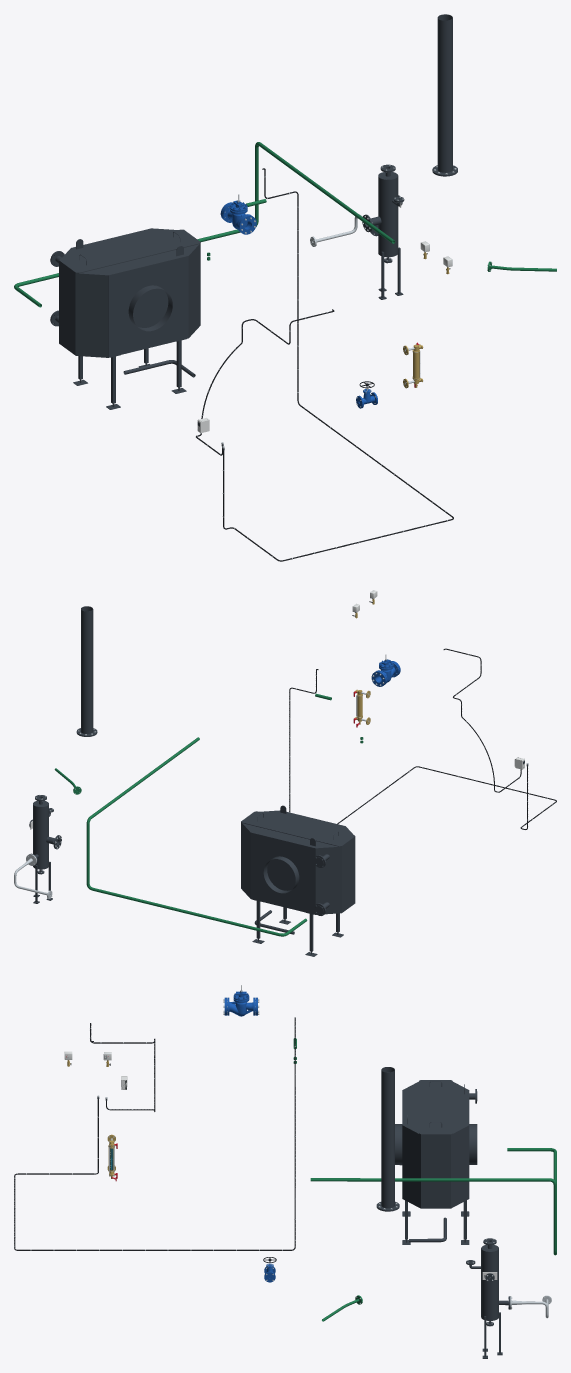
3 views of the same model, one above another, from view 1: azimuth 30°, elevation 25°; view 2: azimuth 150°, elevation 25°; view 3: azimuth 270°, elevation 25° (orthographic). The views are drawn at different scales.
Parts seen in each view (by area): view 1: economizer CAD solid 0, economizer CAD solid 3, economizer CAD solid 1, bdv_vent / dark, separator_fv8 / dark, to_economizer / green, mod_direct_drive_cable / black; view 2: economizer CAD solid 0, economizer CAD solid 3, economizer CAD solid 2, bdv_vent / dark, to_economizer / green, separator_fv8 / dark, mod_direct_drive_cable / black; view 3: economizer CAD solid 3, bdv_vent / dark, separator_fv8 / dark, to_economizer / green, mod_direct_drive_cable / black, economizer CAD solid 0, gpz CAD solid 0.
Part boxes in pixels (left/top/right/bottom): economizer CAD solid 0: left=73, top=256, right=188, bottom=409; economizer CAD solid 3: left=59, top=228, right=200, bottom=355; economizer CAD solid 1: left=76, top=273, right=108, bottom=357; bdv_vent / dark: left=432, top=14, right=457, bottom=176; separator_fv8 / dark: left=362, top=164, right=404, bottom=299; to_economizer / green: left=14, top=142, right=395, bottom=307; mod_direct_drive_cable / black: left=223, top=168, right=453, bottom=561; economizer CAD solid 0: left=250, top=832, right=343, bottom=956; economizer CAD solid 3: left=241, top=805, right=355, bottom=912; economizer CAD solid 2: left=314, top=846, right=341, bottom=915; bdv_vent / dark: left=76, top=606, right=97, bottom=736; to_economizer / green: left=86, top=737, right=307, bottom=936; separator_fv8 / dark: left=29, top=795, right=61, bottom=903; mod_direct_drive_cable / black: left=289, top=669, right=556, bottom=829; economizer CAD solid 3: left=402, top=1080, right=469, bottom=1208; bdv_vent / dark: left=376, top=1067, right=399, bottom=1211; separator_fv8 / dark: left=466, top=1238, right=510, bottom=1358; to_economizer / green: left=310, top=1148, right=556, bottom=1255; mod_direct_drive_cable / black: left=14, top=1017, right=295, bottom=1250; economizer CAD solid 0: left=395, top=1124, right=477, bottom=1244; gpz CAD solid 0: left=227, top=985, right=255, bottom=1016.
Size of the model in its own units: 5.95 by 3.85 by 6.66.
